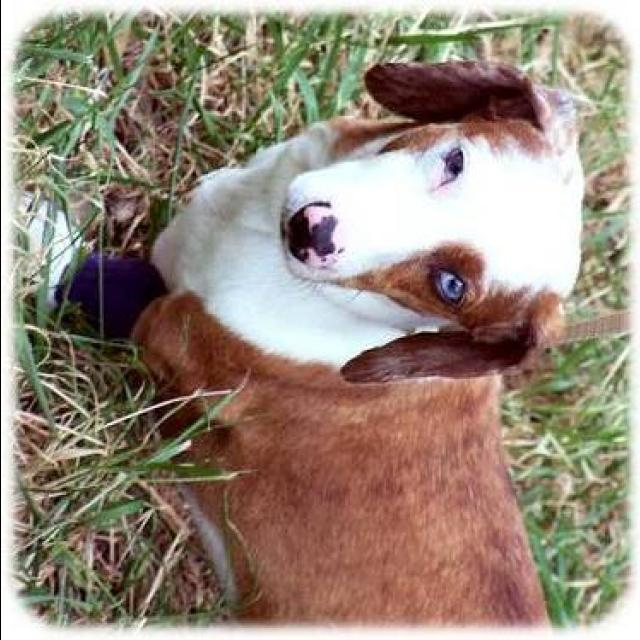dog: (16, 47, 595, 640)
